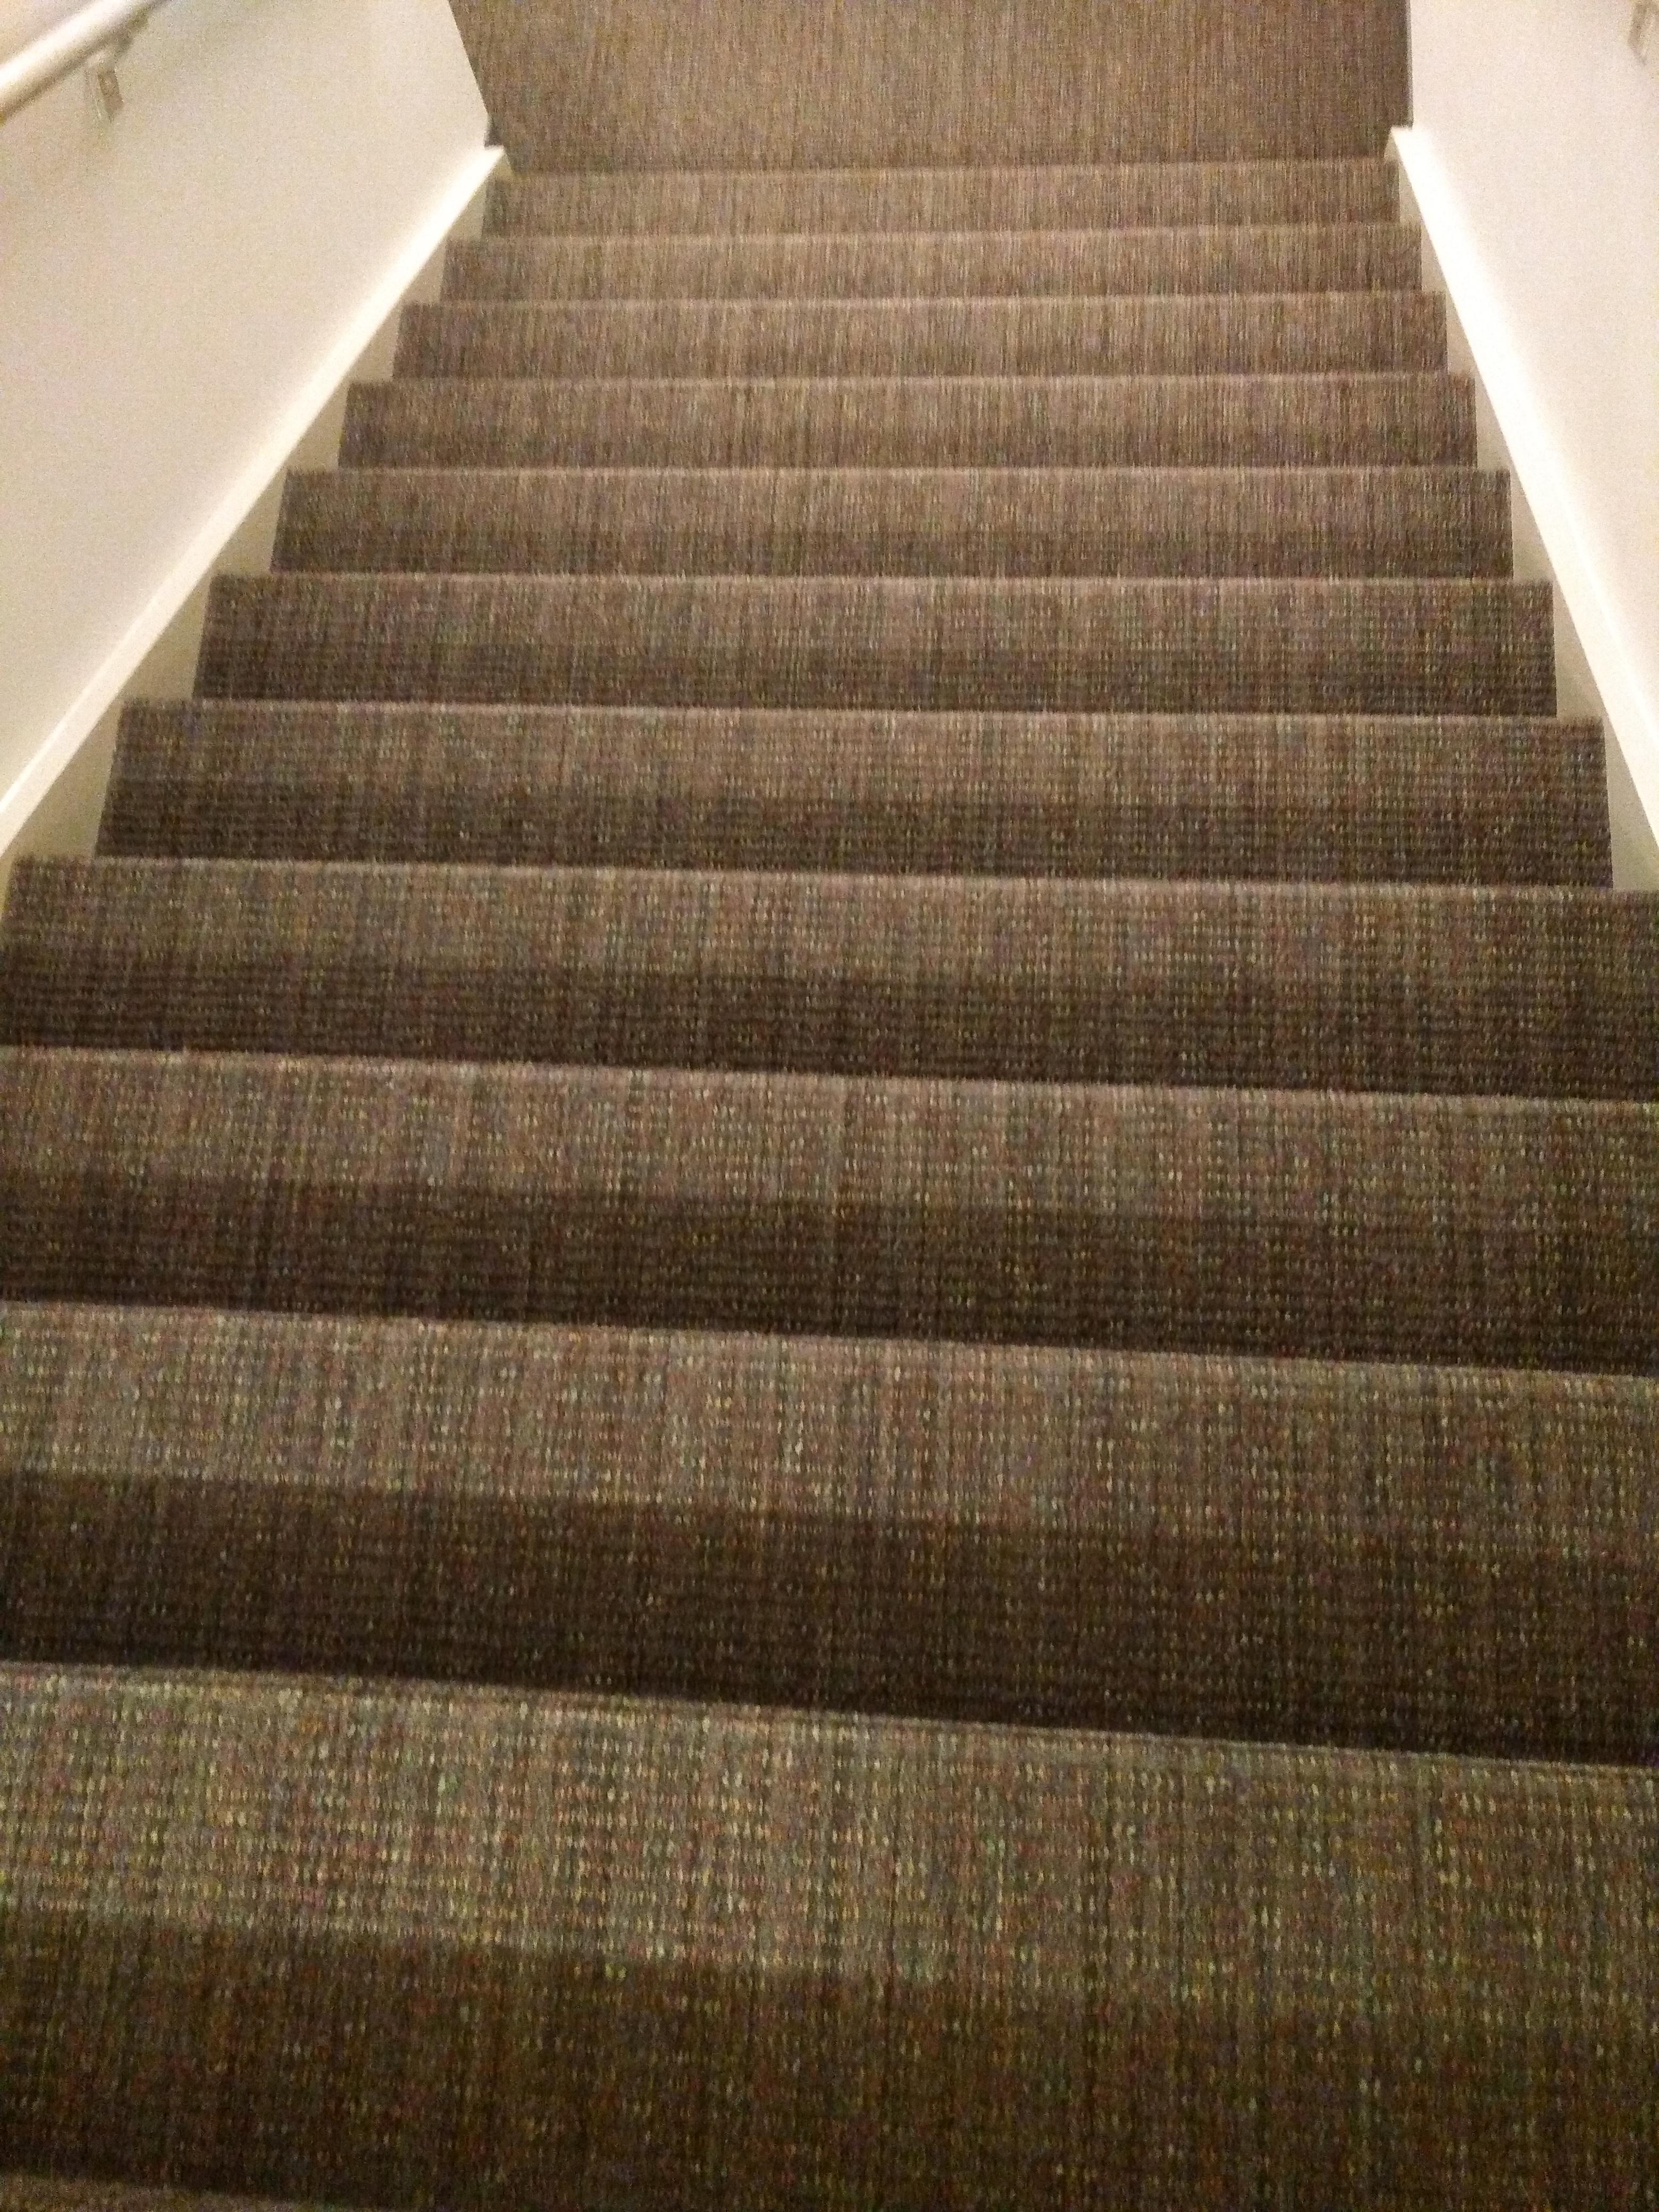stairs_down: (0, 157, 1659, 1933)
